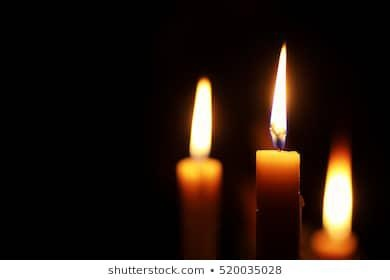fire: (321, 141, 354, 234), (268, 36, 291, 148), (187, 73, 214, 158)
